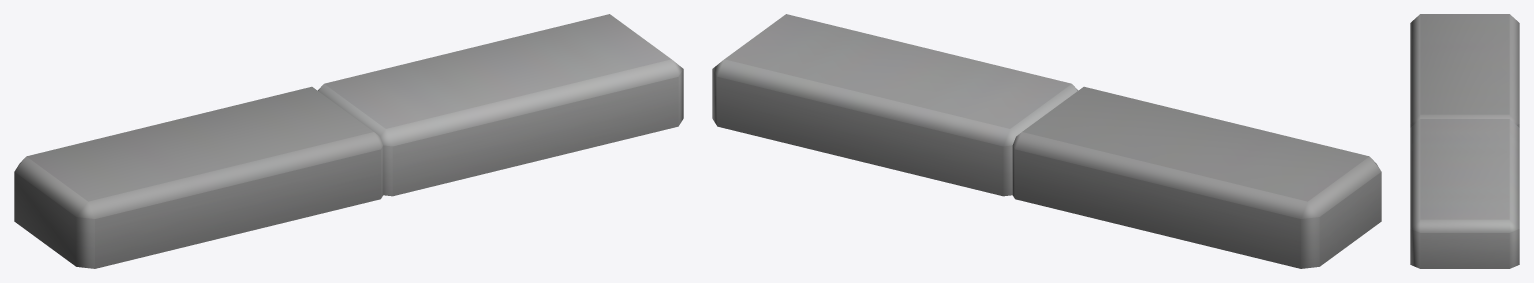
Rendered from floor_divider_double_long.fbx.
The picture shows the model from 3 angles, left to right: view 1: azimuth 30°, elevation 25°; view 2: azimuth 150°, elevation 25°; view 3: azimuth 270°, elevation 25°; orthographic projection. The views are drawn at different scales.
Parts seen in each view (by area): view 1: floor_divider_double_long; view 2: floor_divider_double_long; view 3: floor_divider_double_long.
Part boxes in pixels (x1,y1,x2,y2): floor_divider_double_long: (14, 14, 683, 268); floor_divider_double_long: (712, 14, 1381, 268); floor_divider_double_long: (1410, 14, 1519, 268).
Size of the model in its own units: 255 by 25 by 55.
